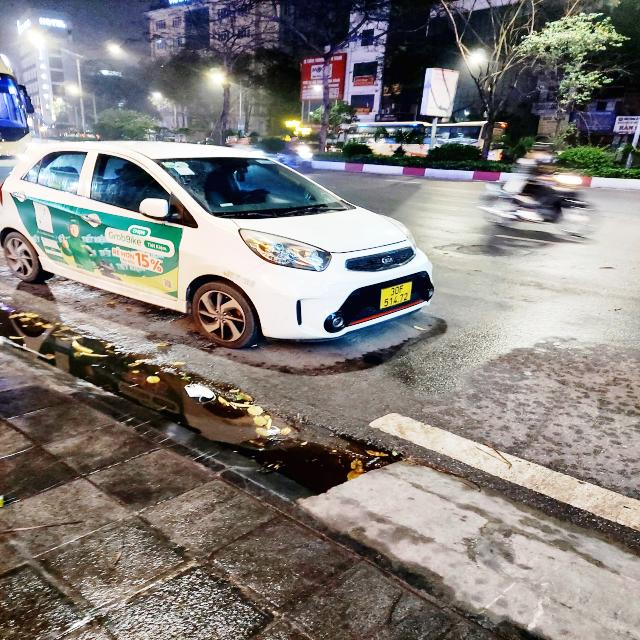license_plate: (375, 280, 415, 313)
